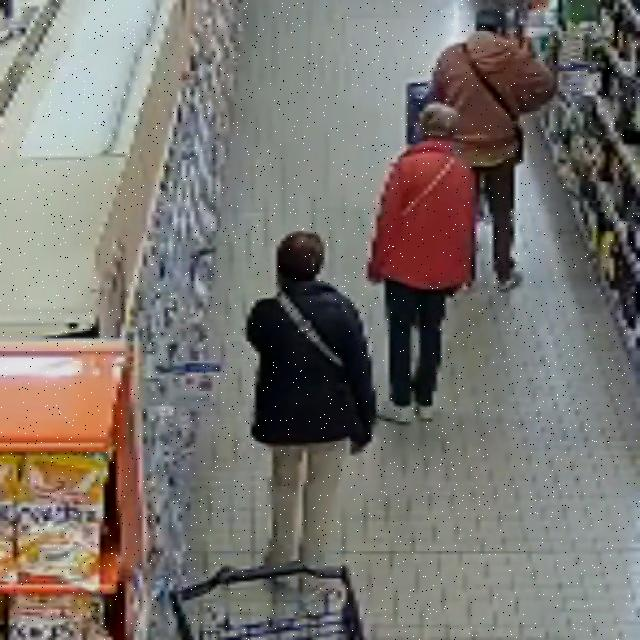bags: (462, 44, 523, 164), (277, 292, 343, 368), (400, 157, 456, 223)
hands: (368, 263, 382, 284), (350, 442, 365, 455)
person: (247, 233, 376, 565), (434, 9, 555, 291), (369, 104, 475, 423)
